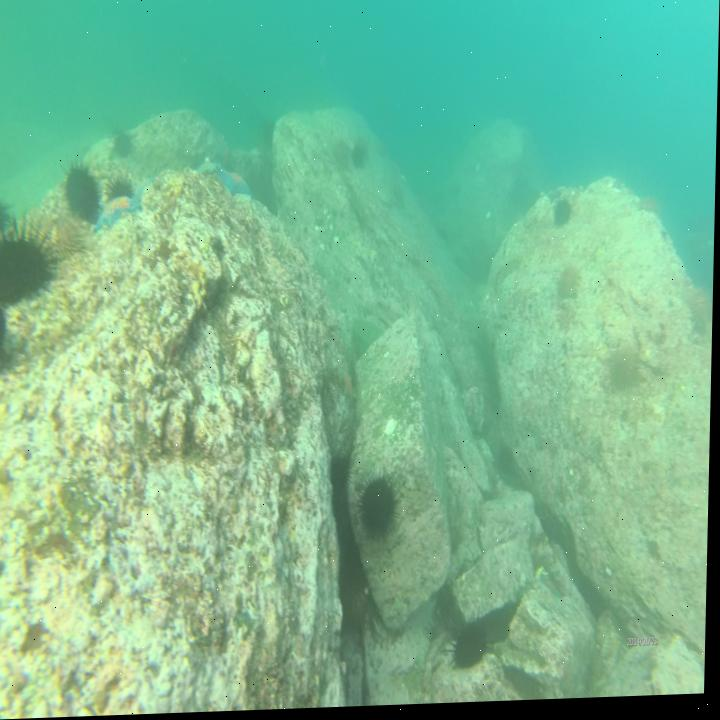echinus: (0, 226, 54, 309), (62, 161, 103, 230), (363, 477, 401, 544), (453, 621, 494, 674), (104, 171, 136, 204), (352, 143, 371, 178), (555, 199, 575, 232), (0, 302, 10, 356)
starfish: (218, 163, 253, 203), (99, 197, 140, 230), (343, 369, 359, 404), (197, 157, 218, 181)
